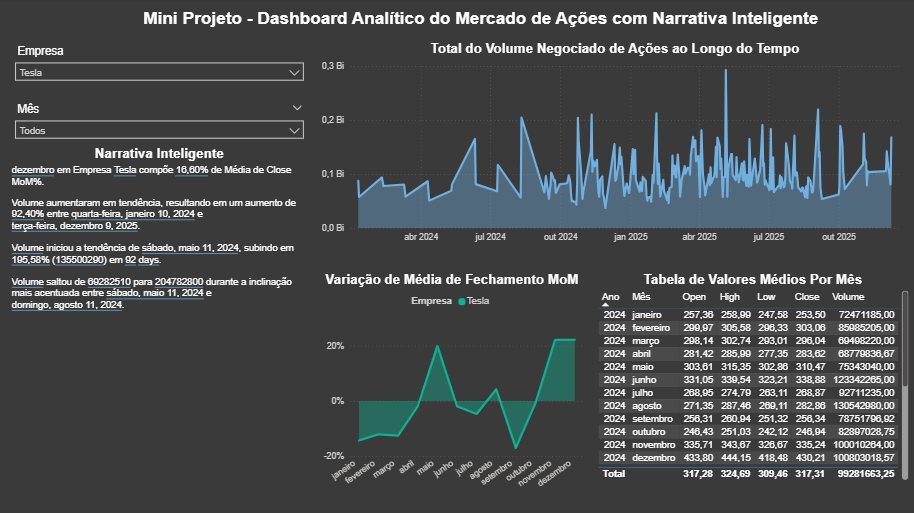

This screenshot's page, from the dashboard's own definition file:
{"tool":"powerbi","page":{"name":"Dashboard","canvas":[1280,720],"ordinal":0},"visuals":[{"type":"areaChart","title":"Total do Volume Negociado de Ações ao Longo do Tempo","fields":{"Category":["StockMarket.Data.Variation.Hierarquia de datas.Ano","StockMarket.Data.Variation.Hierarquia de datas.Trimestre","StockMarket.Data.Variation.Hierarquia de datas.Mês","StockMarket.Data.Variation.Hierarquia de datas.Dia"],"Y":["Sum(StockMarket.Volume)"]},"box":[444.7,59.3,825.9,288],"z":0},{"type":"tableEx","title":"Tabela de Valores Médios Por Mês","fields":{"Values":["StockMarket.Data.Variation.Hierarquia de datas.Ano","StockMarket.Data.Variation.Hierarquia de datas.Mês","Avg(StockMarket.Open)","Avg(StockMarket.High)","Avg(StockMarket.Low)","Avg(StockMarket.Close)","Avg(StockMarket.Volume)"]},"box":[828.7,381.2,441.9,293.6],"z":1000},{"type":"slicer","title":"Empresa","fields":{"Values":["StockMarket.Empresa"]},"box":[14.1,59.3,420.7,67.8],"z":2000},{"type":"stackedAreaChart","title":"Variação de Média de Fechamento MoM","fields":{"Category":["StockMarket.Data.Variation.Hierarquia de datas.Mês"],"Series":["StockMarket.Empresa"],"Y":["StockMarket.Média de Close MoM%"]},"box":[444.7,381.2,372.7,320.5],"z":3000},{"type":"textbox","title":"Narrativa Inteligente","box":[14.1,206.1,420.7,495.5],"z":3001},{"type":"slicer","fields":{"Values":["StockMarket.Data.Variation.Hierarquia de datas.Mês"]},"box":[14.1,139.8,420.7,66.4],"z":3002},{"type":"textbox","box":[186.4,9.9,969.9,39.5],"z":3003}]}

Visuals, with their boxes in screenshot pixels (x1, y1, x2, y2), scaled from the page's 1280x720 canvas onto the 914x513 screenshot:
"Total do Volume Negociado de Ações ao Longo do Tempo" areaChart: select_region(318, 42, 907, 247)
"Tabela de Valores Médios Por Mês" tableEx: select_region(592, 272, 907, 481)
"Empresa" slicer: select_region(10, 42, 310, 91)
"Variação de Média de Fechamento MoM" stackedAreaChart: select_region(318, 272, 584, 500)
"Narrativa Inteligente" textbox: select_region(10, 147, 310, 500)
slicer - StockMarket.Data.Variation.Hierarquia de datas.Mês: select_region(10, 100, 310, 147)
textbox: select_region(133, 7, 826, 35)
